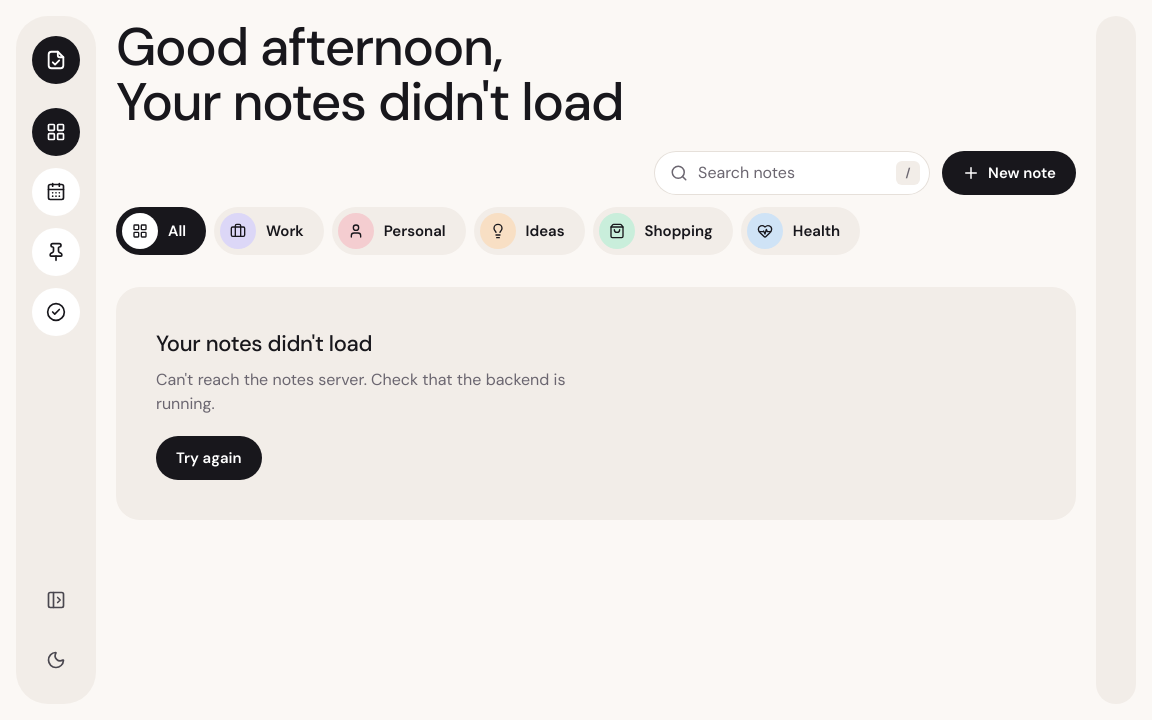
Test: Notes dashboard › explains a failed load and loads again on Try again
The width and height of the screenshot is (1152, 720).
expect the heading "Your notes didn't load" is shown: met, box [156, 327, 372, 360]
expect the text "Can't reach the notes server" is shown: met, box [156, 369, 565, 414]
Click the button "Try again" at (209, 458), box [156, 436, 262, 480]
(page scrolled)
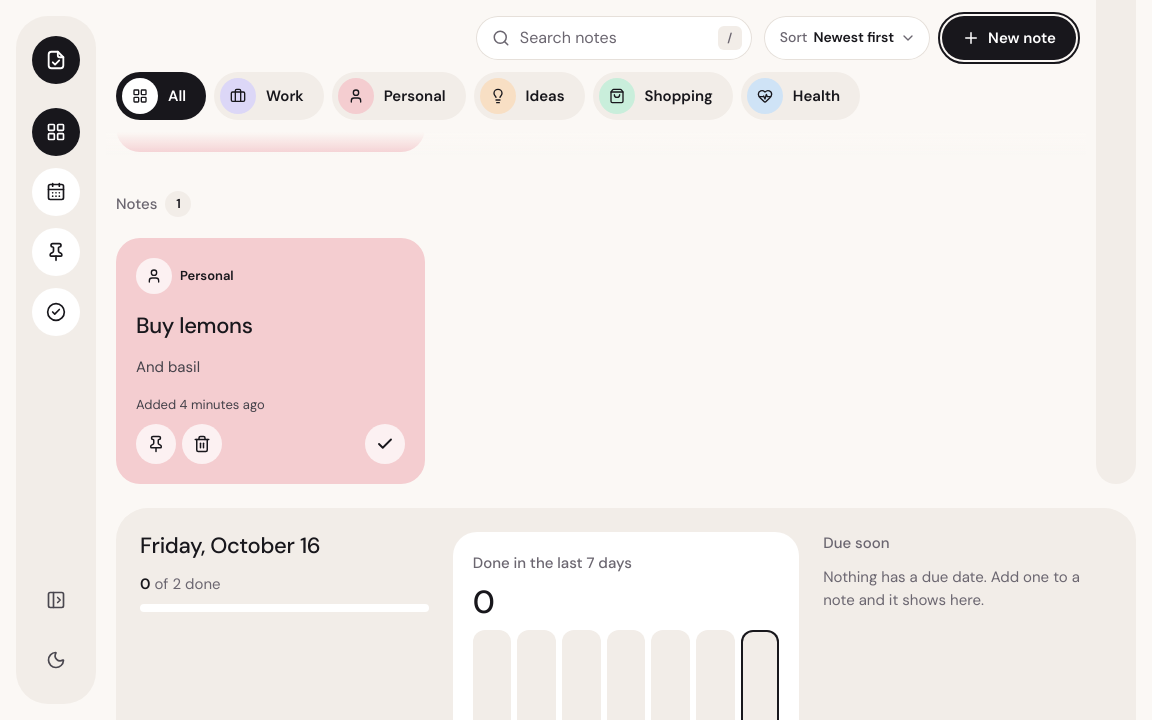
expect the element "Buy lemons" is shown: met, box [116, 238, 425, 484]
